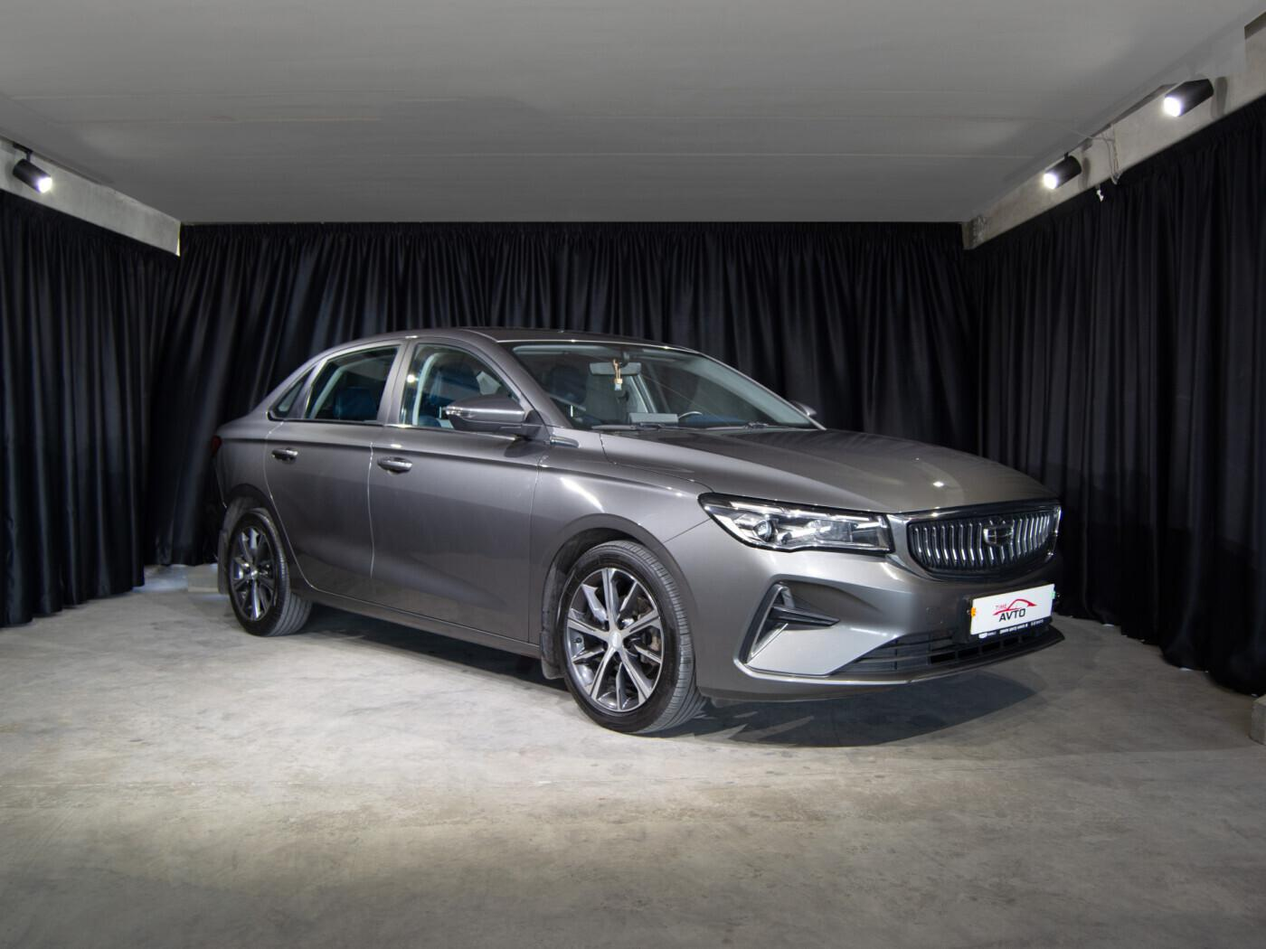Emgrand_2021: (208, 322, 1076, 753)
